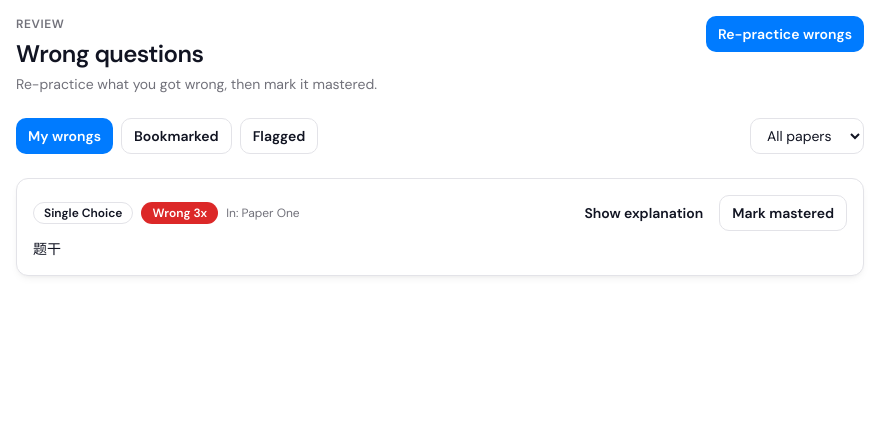
Test: <WrongBookView> › expands the explanation with the correct answer highlighted
Click the button "Show explanation": (644, 213) left=572, top=195, right=715, bottom=231
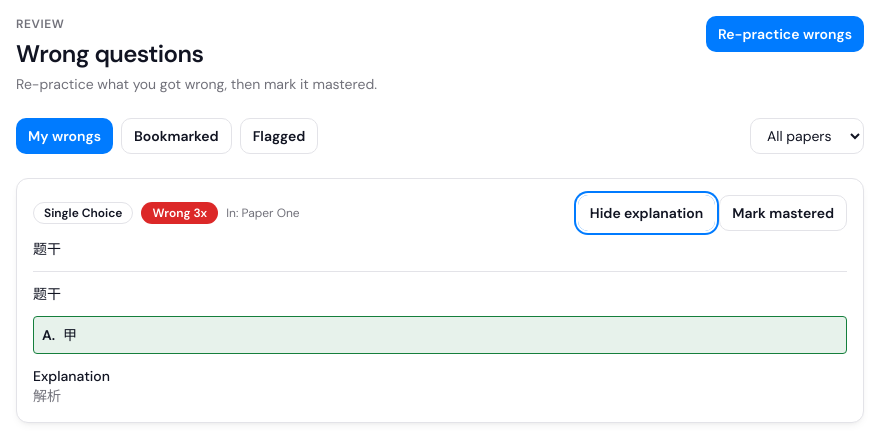
Result: the text "解析" is shown at left=33, top=387, right=61, bottom=405
Result: the text "甲" is shown at left=63, top=326, right=77, bottom=344
